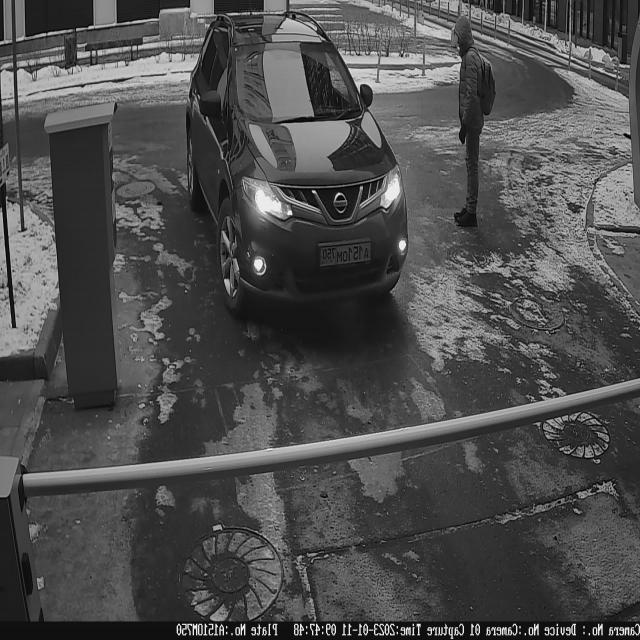car-plate-numbers: (317, 234, 377, 273)
